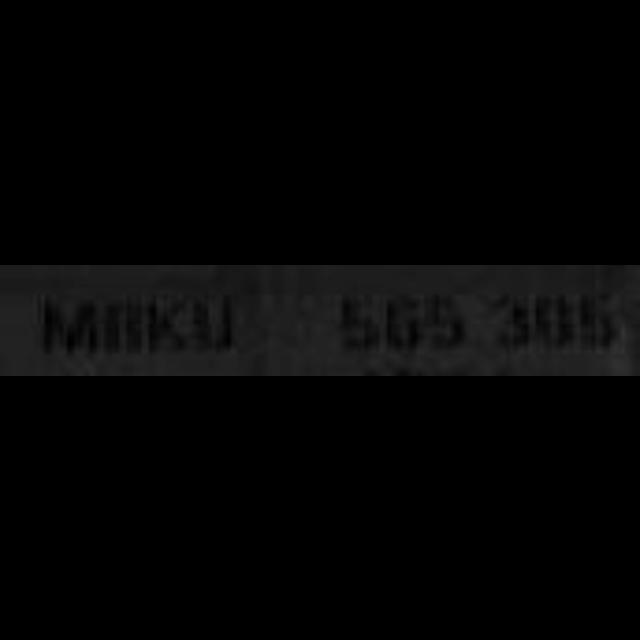0: (535, 282, 573, 358)
3: (490, 286, 534, 356)
5: (576, 282, 630, 360), (426, 283, 472, 355), (337, 288, 381, 357)
6: (384, 284, 424, 362)
a: (102, 293, 142, 362)
k: (142, 291, 194, 363)
m: (38, 296, 102, 360)
u: (195, 292, 238, 358)
